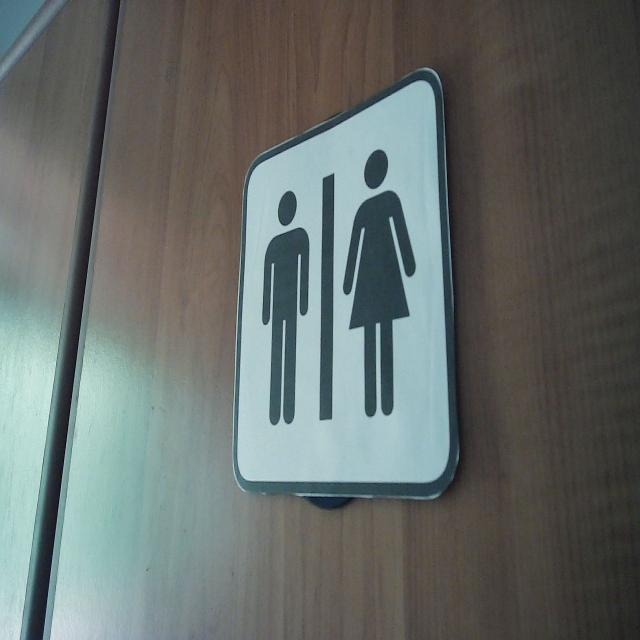restroom: (230, 61, 464, 504)
